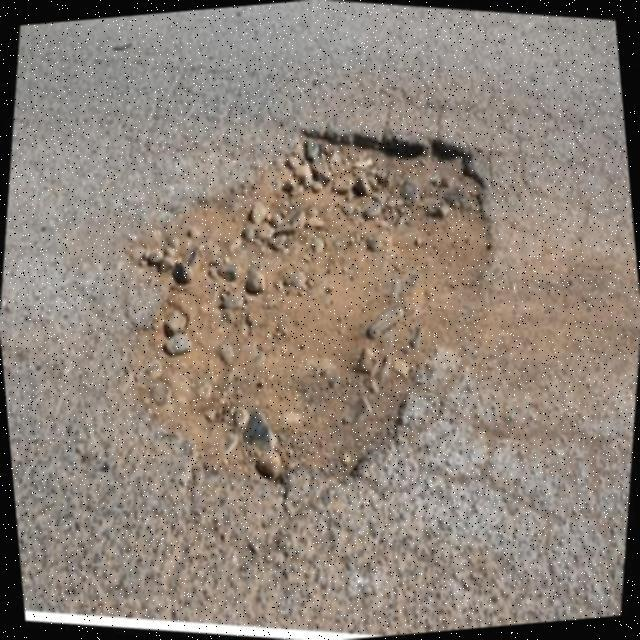Pothole: (125, 130, 492, 485)
